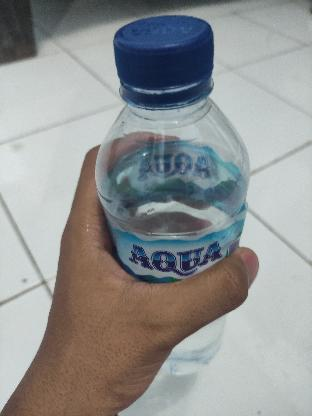Plastic Bottle: (90, 13, 256, 377)
